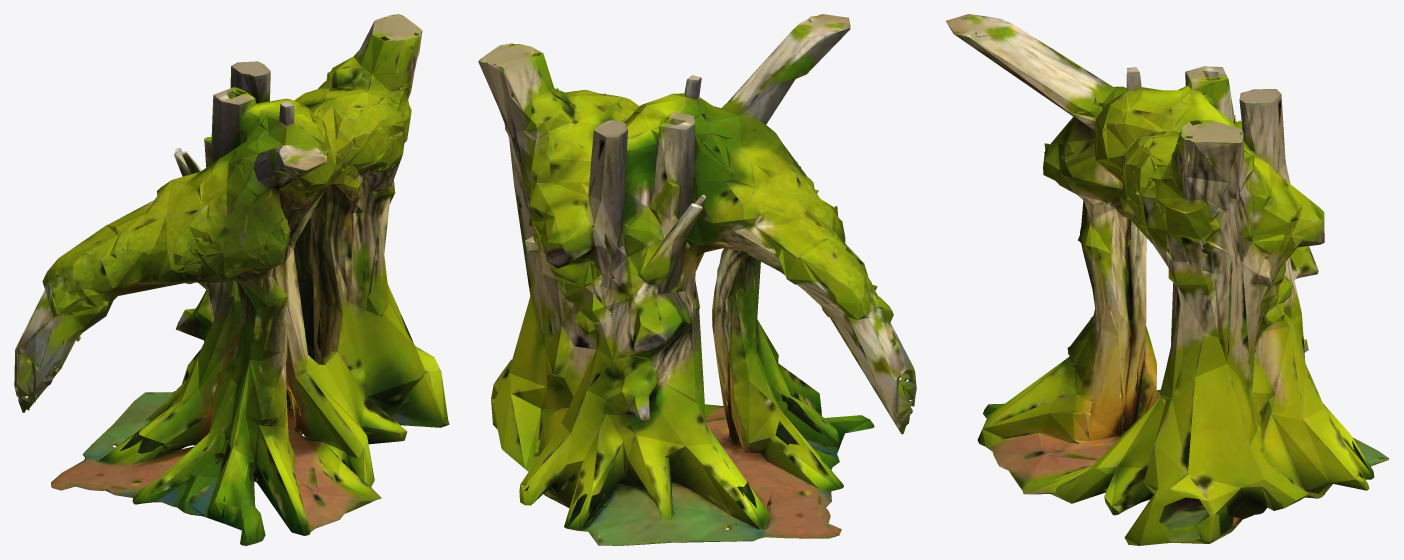
Rendered from swamp_cypress_01.glb.
The picture shows the model from 3 angles, left to right: view 1: azimuth 30°, elevation 25°; view 2: azimuth 150°, elevation 25°; view 3: azimuth 270°, elevation 25°; orthographic projection. The views are drawn at different scales.
Parts seen in each view (by area): view 1: geometry_0; view 2: geometry_0; view 3: geometry_0.
Boxes of the visible parts, x1,y1,x2,y2 form: geometry_0: (14,14,449,545); geometry_0: (478,14,916,545); geometry_0: (946,14,1389,545).
Size of the model in its own units: 0.9998 by 0.9302 by 0.8834.
1 material, 1 textured.
